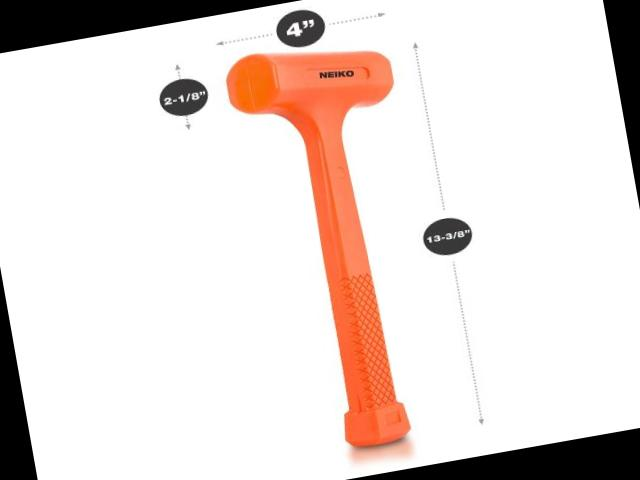hammer: (211, 28, 456, 463)
